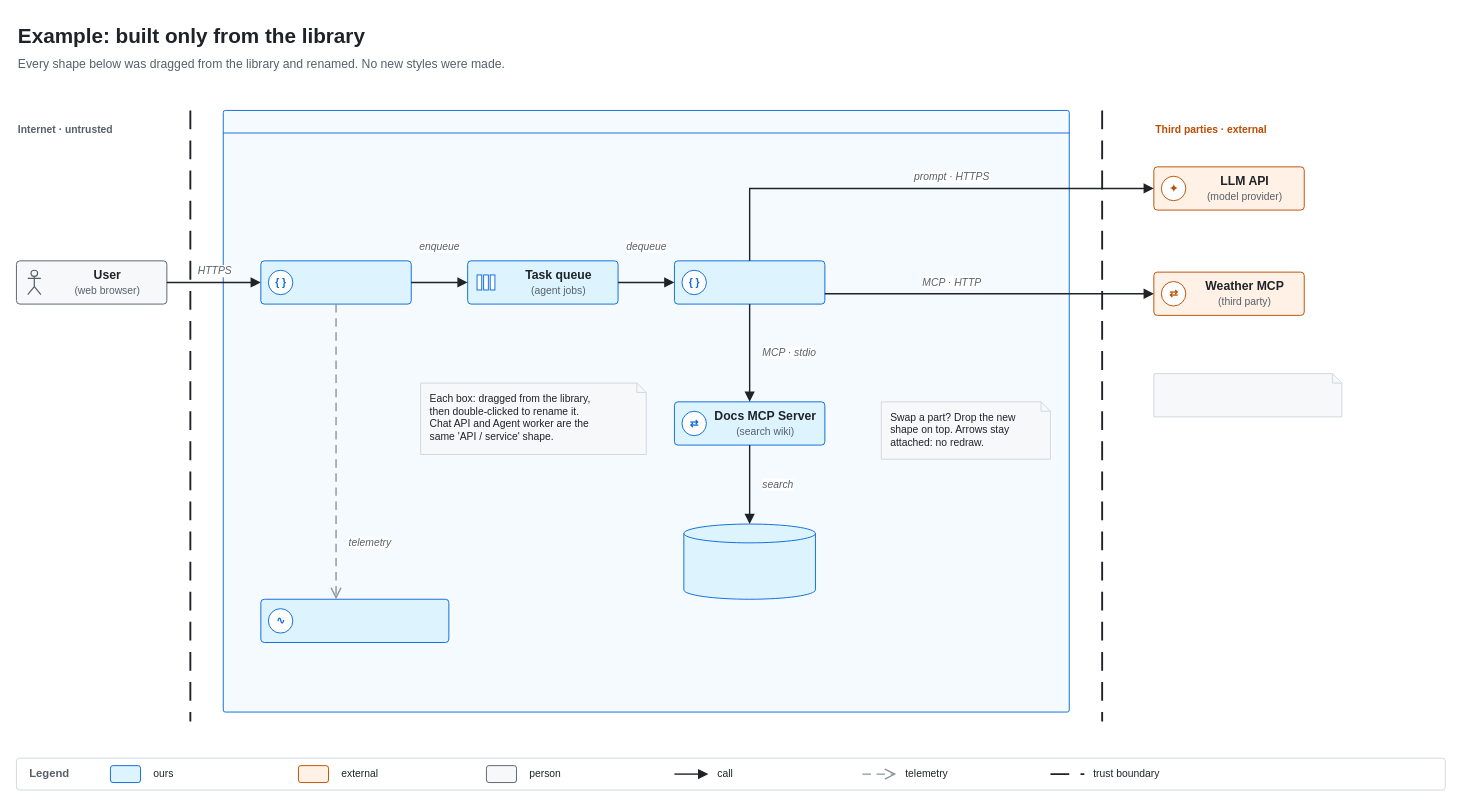
Image size: 1462x807. Some labels were removed from this diagram. Each missing label, with the box of its shape:
Agent worker (plan → act): (674, 260, 825, 304)
AI assistant platform · ours: (222, 110, 1069, 712)
Chat API (sessions): (260, 260, 411, 304)
Observability (traces · logs · metrics): (260, 598, 449, 642)
Orange tells you at a glance: we don't run these.: (1153, 373, 1342, 417)
Vector DB (doc chunks): (683, 523, 815, 599)
